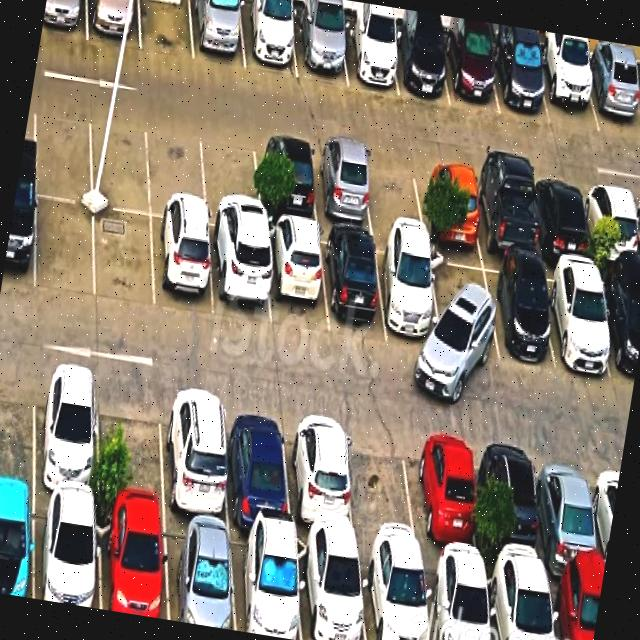empty: (344, 417, 421, 555), (99, 375, 165, 515), (429, 249, 499, 361), (201, 126, 261, 234), (90, 108, 150, 215), (95, 207, 154, 311), (149, 118, 207, 223), (35, 98, 92, 203), (36, 197, 95, 298), (363, 149, 425, 236), (0, 360, 34, 491), (139, 0, 194, 60)
occupied: (410, 425, 480, 565), (285, 407, 356, 544), (536, 443, 604, 580), (163, 386, 229, 525), (224, 397, 291, 532), (34, 364, 98, 504), (483, 435, 547, 572), (541, 260, 613, 376), (163, 518, 236, 631), (98, 507, 168, 620), (230, 529, 301, 640), (482, 256, 554, 364), (375, 238, 443, 352), (35, 496, 100, 609), (321, 229, 386, 339), (296, 538, 366, 640), (265, 222, 328, 334), (359, 551, 430, 640), (151, 217, 214, 317), (472, 166, 539, 258), (208, 228, 270, 327), (422, 557, 492, 640), (418, 158, 482, 247), (255, 135, 318, 224), (535, 48, 599, 132), (312, 142, 373, 230), (532, 173, 592, 260), (485, 566, 554, 640), (597, 267, 640, 385), (491, 37, 550, 123), (581, 54, 640, 139), (583, 180, 640, 267), (442, 31, 499, 114), (239, 0, 298, 78), (390, 27, 449, 105), (340, 18, 398, 95), (293, 11, 347, 84), (190, 0, 245, 70), (547, 573, 603, 640), (0, 491, 34, 598), (1, 189, 36, 290), (87, 0, 141, 49), (41, 0, 87, 40)
